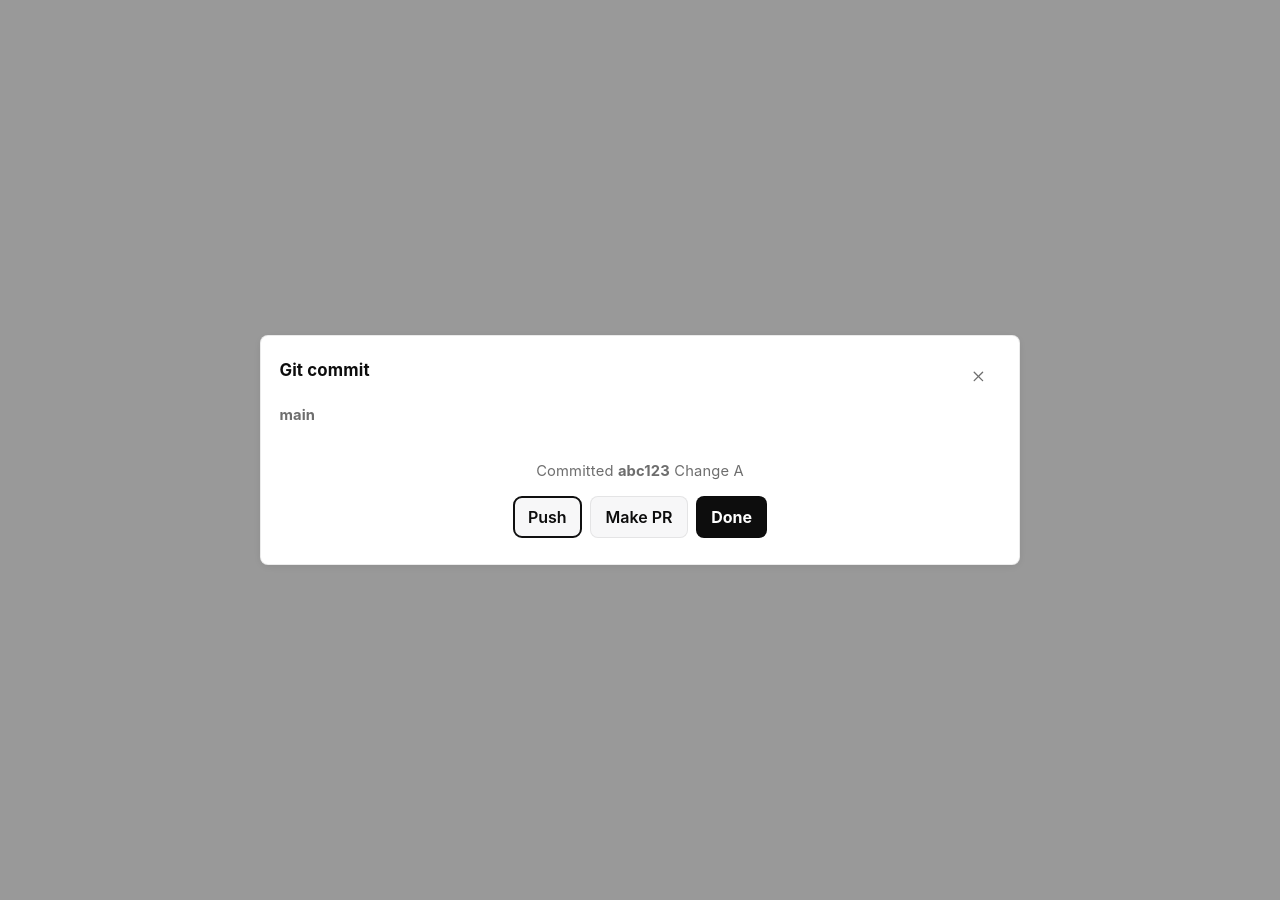
Test: CommitModal publishing › pushes with one click without stale staged counts or confirmation
This screenshot has width=1280, height=900.
Expected: the button "Make PR" is enabled, [590,496,688,538]
Expected: the button "Done" is enabled, [696,496,767,538]
Click the button "Push".
click(547, 517)  # box [513,496,582,538]
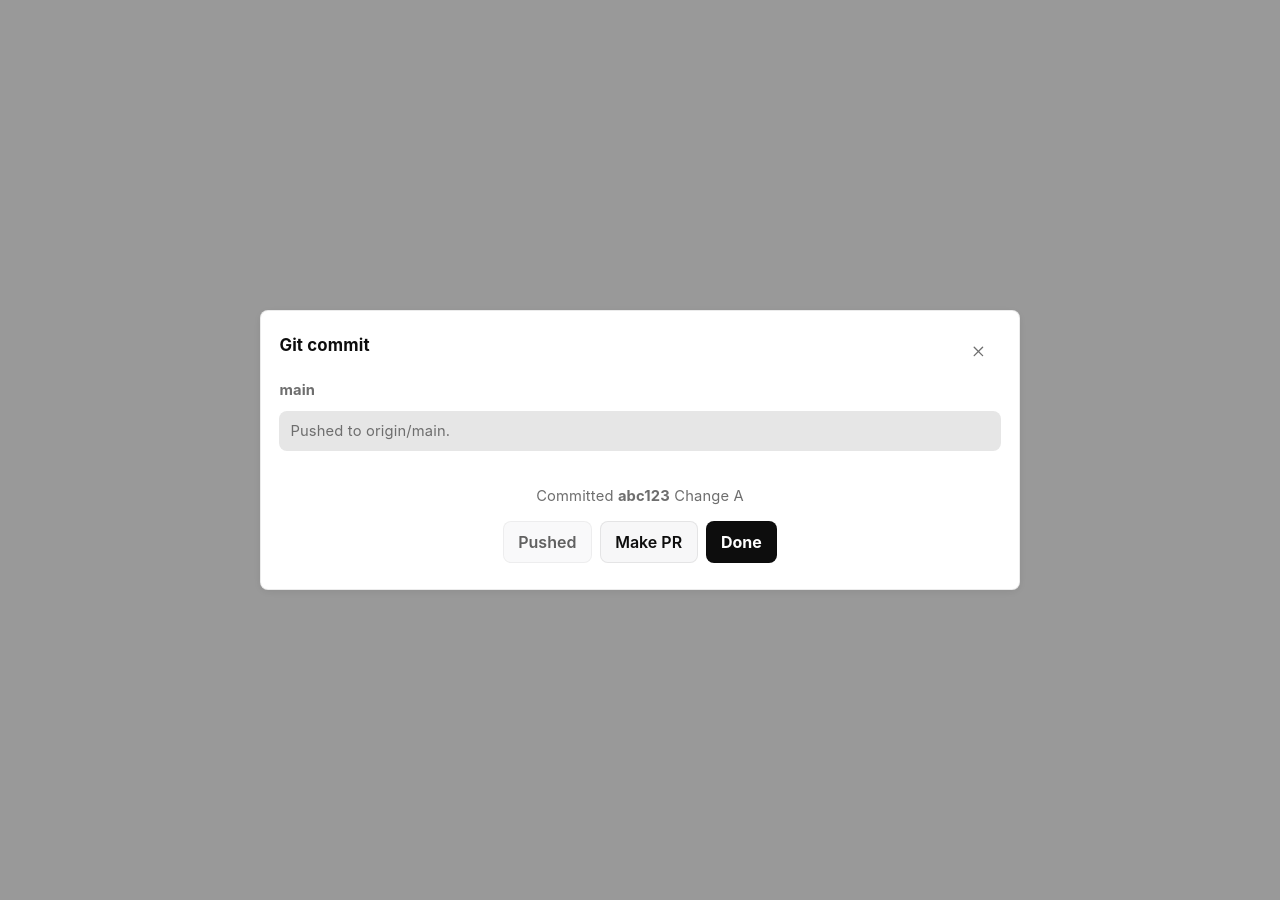
Expected: the button "Done" is enabled, [706,521,777,563]
Expected: the button "Pushed" is disabled, [503,521,592,563]
